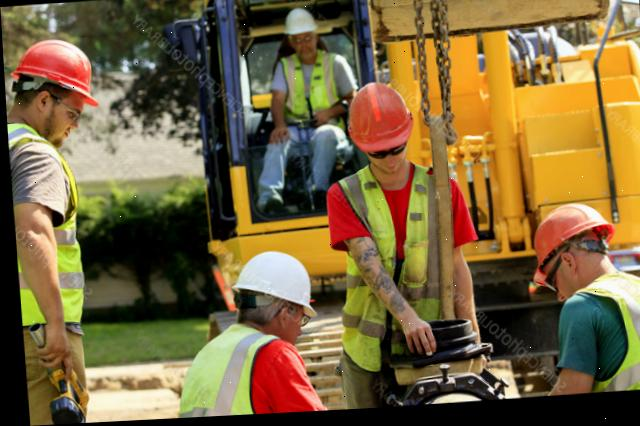helmet: (523, 202, 611, 291), (11, 35, 95, 98), (343, 87, 408, 153), (226, 253, 309, 300), (276, 7, 315, 36)
vest: (334, 162, 444, 369), (8, 123, 81, 330), (165, 336, 274, 420), (574, 280, 640, 398), (279, 47, 338, 125)
